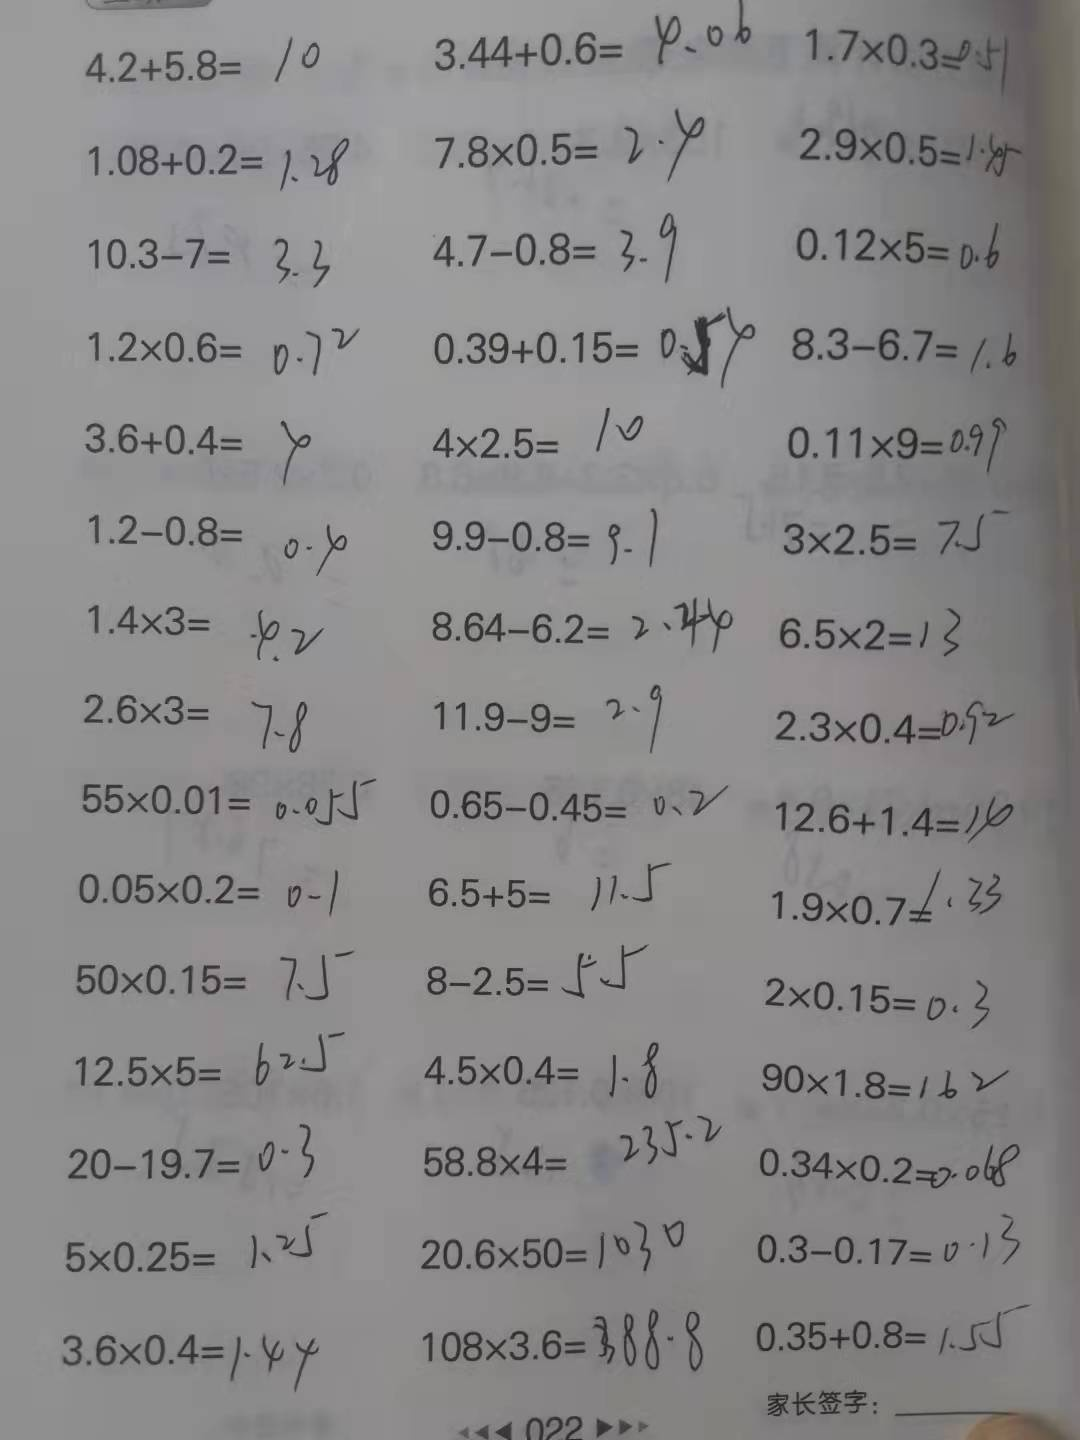equation: (417, 314, 769, 397), (398, 1113, 735, 1187), (423, 1, 763, 74), (416, 1196, 711, 1278), (431, 105, 709, 190), (742, 1290, 1041, 1367), (64, 1113, 320, 1200), (414, 209, 691, 287), (65, 1205, 332, 1286), (413, 1304, 718, 1374), (52, 1318, 329, 1395), (414, 592, 743, 657), (87, 503, 355, 582), (68, 855, 354, 927), (745, 1208, 1033, 1278), (415, 1025, 666, 1106), (73, 406, 315, 489), (70, 1031, 360, 1100), (71, 680, 317, 761), (742, 1133, 1026, 1202), (788, 111, 1033, 190), (81, 128, 364, 196), (761, 861, 1011, 937), (422, 927, 653, 1009), (414, 853, 681, 923), (771, 685, 1026, 759), (784, 403, 1010, 485), (57, 952, 368, 1013), (417, 678, 670, 752), (756, 959, 1001, 1035), (420, 501, 670, 574), (73, 776, 387, 833), (71, 23, 324, 94), (70, 324, 376, 383), (788, 305, 1026, 380), (78, 228, 335, 296), (82, 591, 327, 661), (417, 776, 740, 828), (800, 15, 1016, 91), (753, 1050, 1016, 1111), (770, 505, 1009, 571), (427, 406, 663, 473), (778, 213, 1010, 280), (768, 789, 1031, 847), (773, 598, 972, 664)
